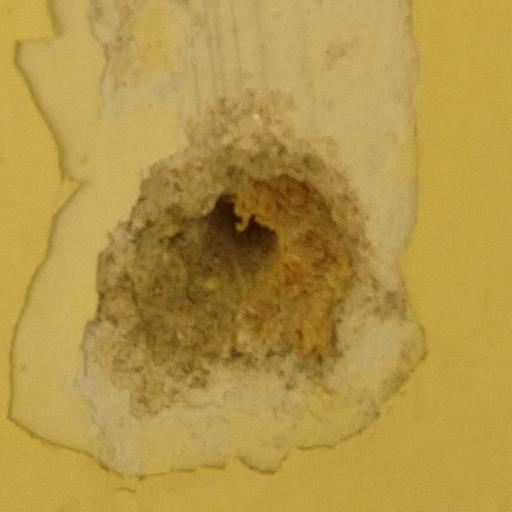spalling: (84, 71, 411, 417)
